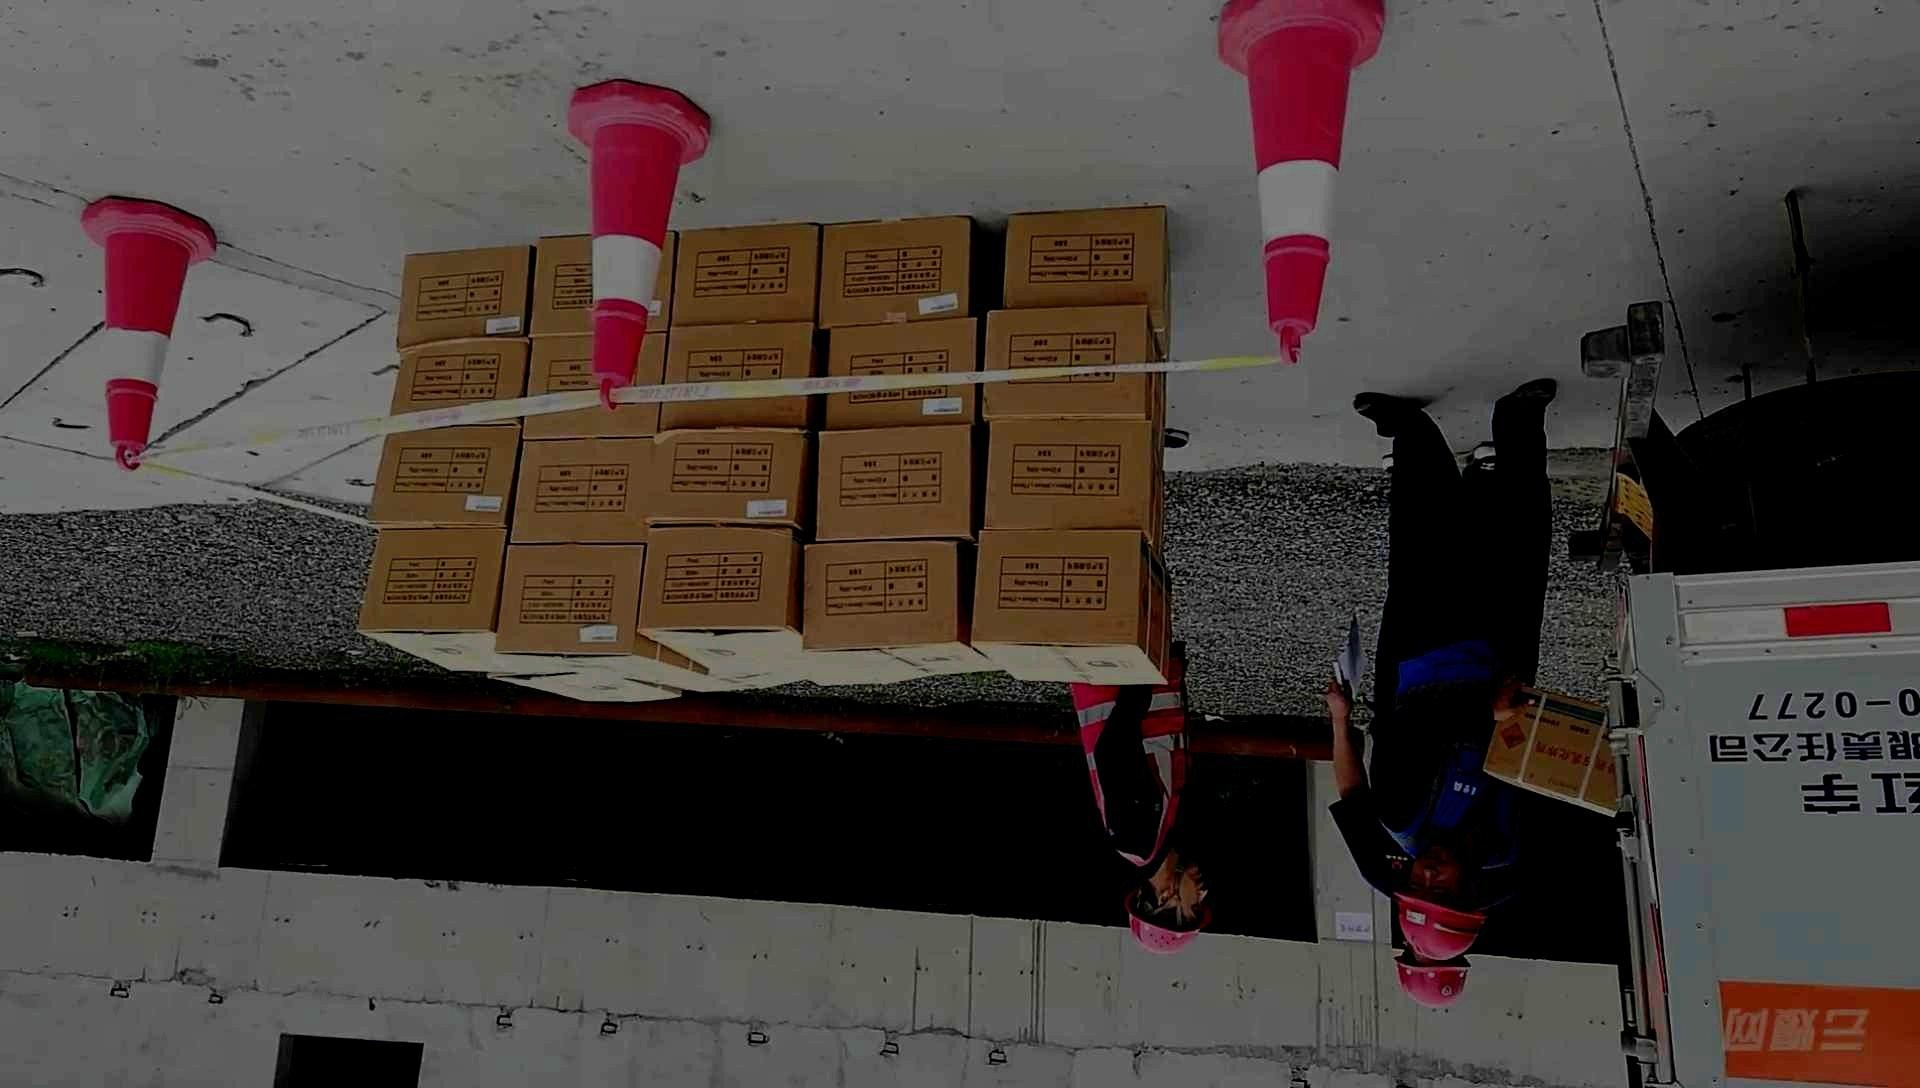helmet: (1391, 841, 1489, 961), (1124, 855, 1208, 956), (1393, 938, 1472, 1008)
